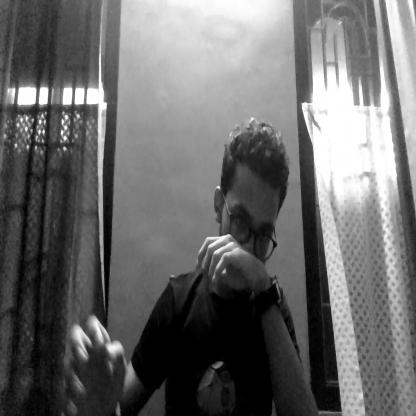Distracted: (222, 126, 284, 254)
